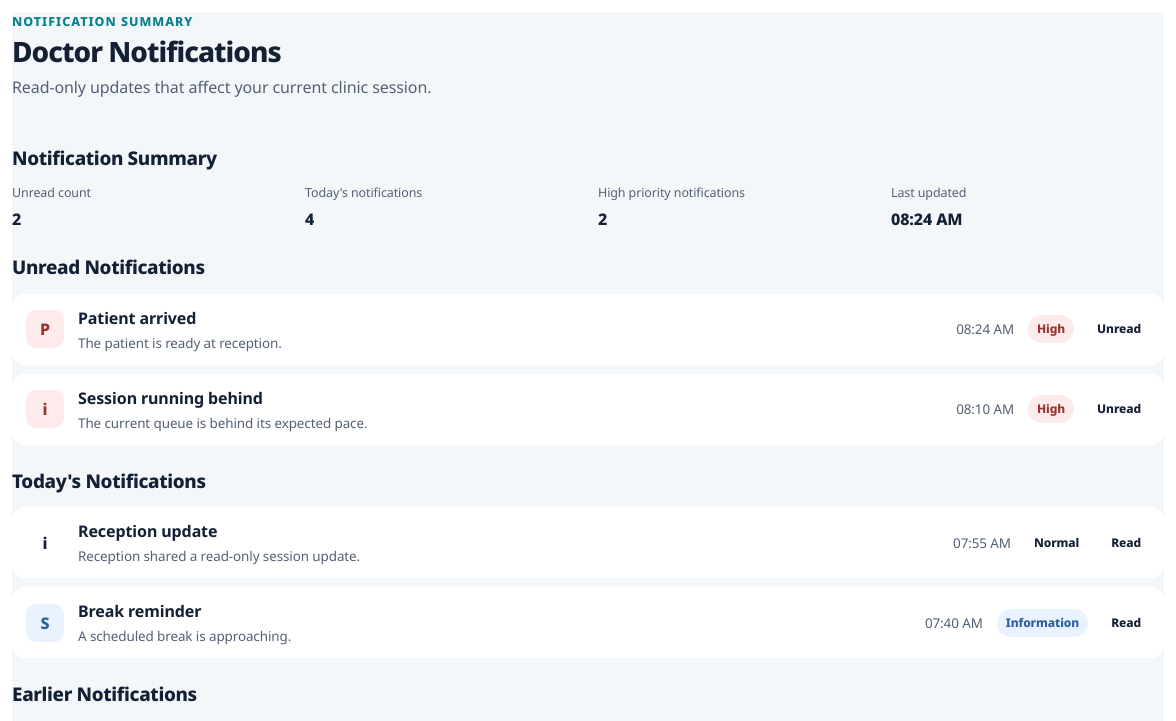
Test: doctor notifications presentation › opens a notification, marks it read, and shows localized details
The image size is (1176, 721).
Click the button with aria-label "Open notification: Patient arrived": click(45, 329) [12,294,1164,365]
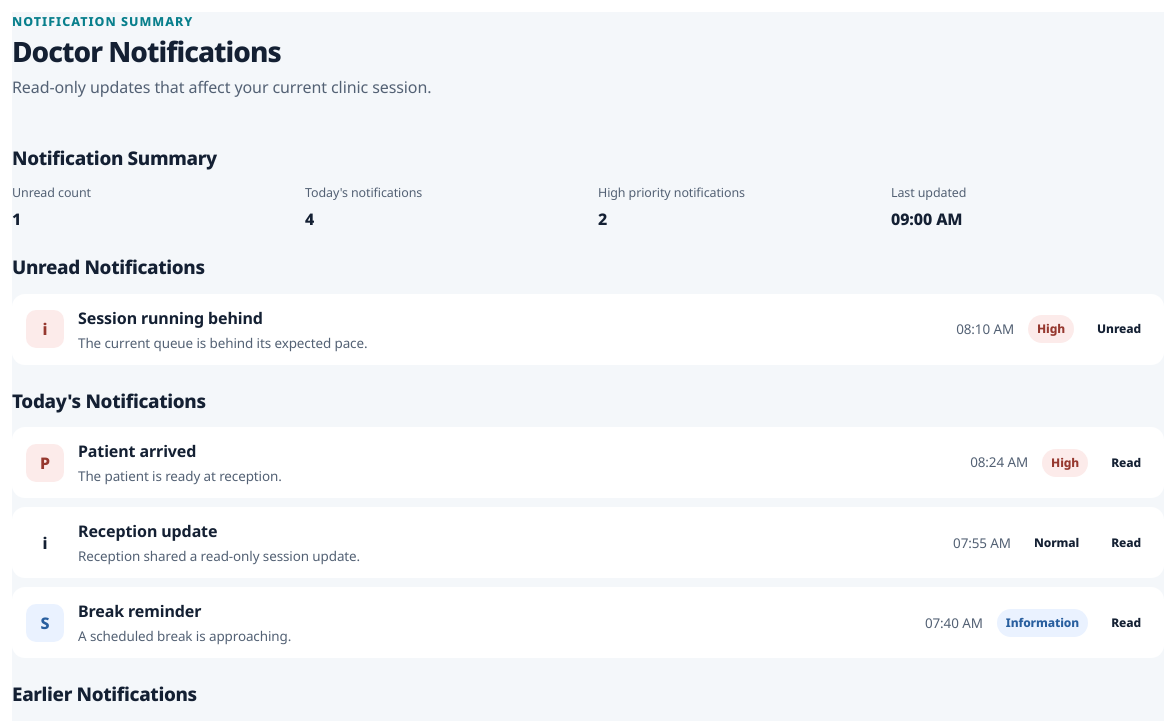
Now the text "1" is shown, box [12,208,21,230]
